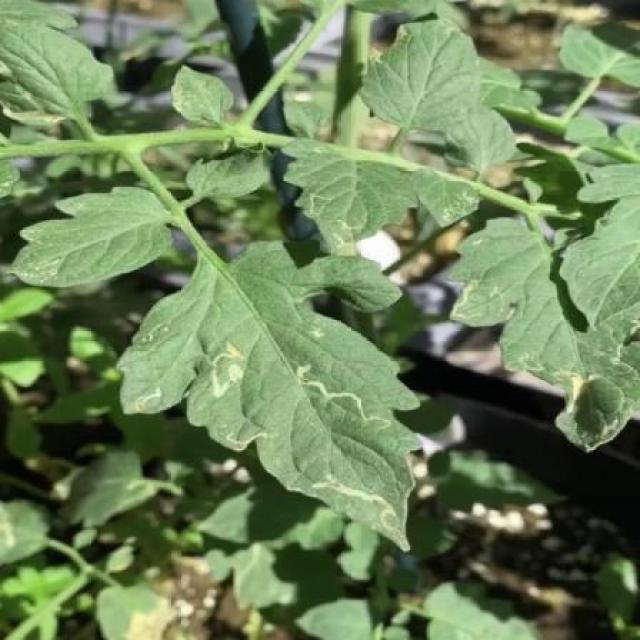Leaf Miner: (117, 241, 430, 556)
